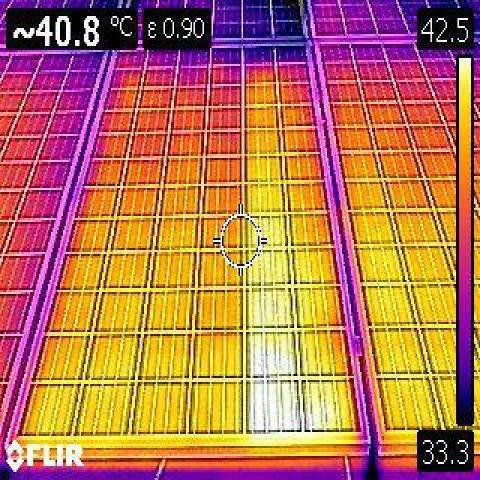fault: (238, 60, 368, 438)
